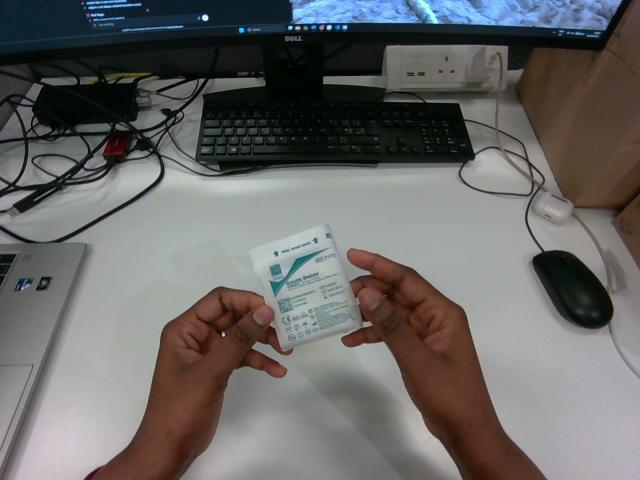gauze: (250, 224, 361, 349)
